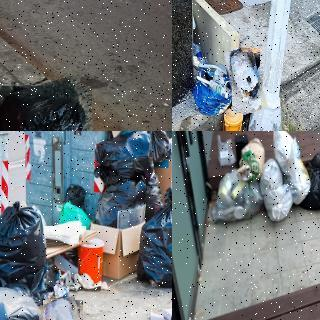Garbage: (0, 79, 96, 131), (0, 203, 53, 292), (138, 187, 172, 287), (87, 131, 152, 181), (211, 172, 264, 220), (191, 62, 235, 117), (228, 47, 264, 114), (95, 180, 141, 228), (0, 287, 42, 320), (55, 200, 95, 234), (271, 131, 302, 173), (238, 138, 265, 179), (263, 185, 293, 220), (39, 298, 86, 320), (141, 131, 172, 164), (305, 153, 320, 209), (260, 160, 283, 192)
